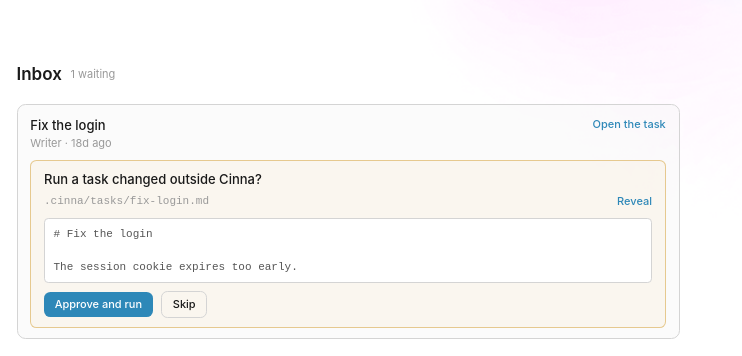
Scenario: the outside-content approval › says when an approved task it could not start will run ({"reason":"live_turn","mode":"one"})
The width and height of the screenshot is (742, 356).
Expected: the element "Run a task changed outside Cinna?" is shown, [16,104,680,339]
Click the button "Approve and run" at (98, 305), box [44,292,153,317]
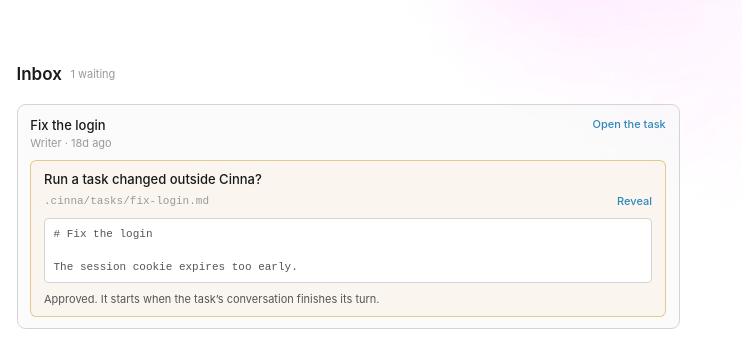
Result: the message reads "Approved. It starts when the task’s conversation finishes its turn." at [44,292,380,306]
